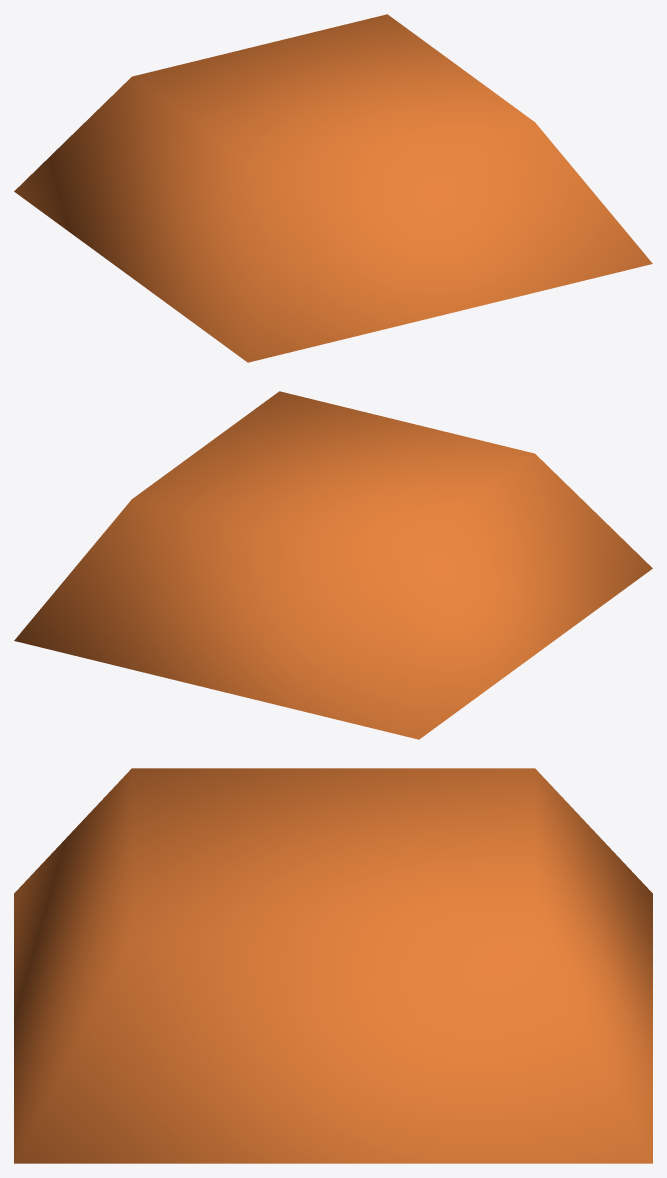
File: PanArriba.glb
3 views of the same model, one above another, from view 1: azimuth 30°, elevation 25°; view 2: azimuth 150°, elevation 25°; view 3: azimuth 270°, elevation 25° (orthographic). The views are drawn at different scales.
Parts seen in each view (by area): view 1: Pan_Superior; view 2: Pan_Superior; view 3: Pan_Superior.
Part boxes in pixels (<box>): Pan_Superior: <box>14,14,652,362</box>; Pan_Superior: <box>14,391,652,739</box>; Pan_Superior: <box>14,768,652,1163</box>.
Size of the model in its own units: 2.15 by 0.6494 by 2.15.
